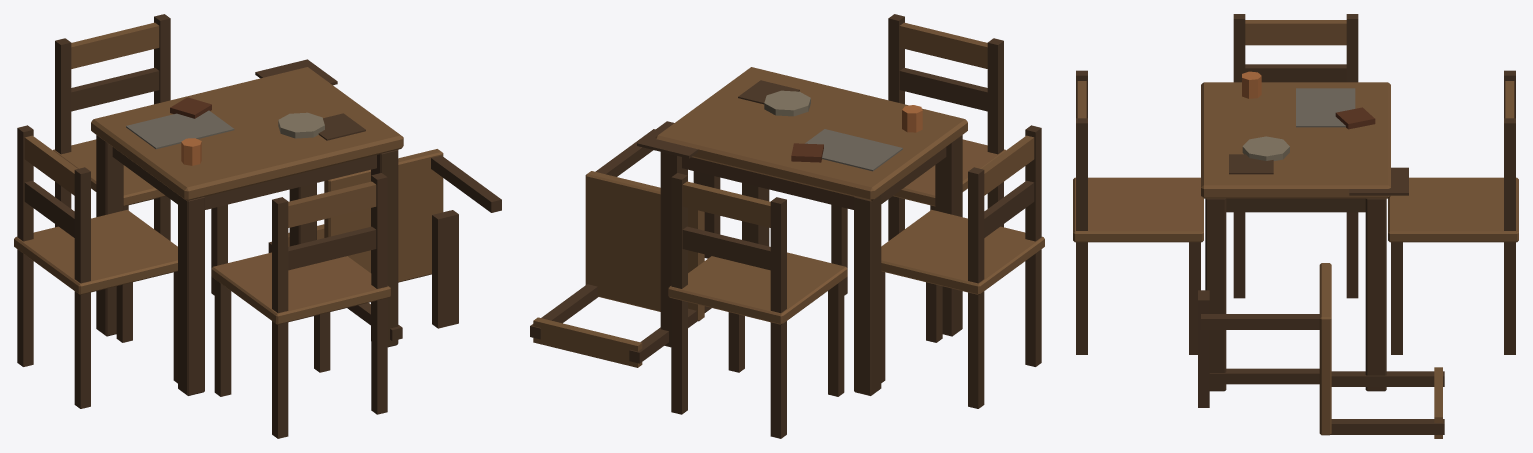
The model's file is furn_dining_set.fbx.
3 renders of one model, left to right at view 1: azimuth 30°, elevation 25°; view 2: azimuth 150°, elevation 25°; view 3: azimuth 270°, elevation 25°, orthographic.
Visible parts, largest first — view 1: furn_dining_set; view 2: furn_dining_set; view 3: furn_dining_set.
Part boxes in pixels (x1,y1,x2,y2): furn_dining_set: (14,14,501,438); furn_dining_set: (530,14,1044,438); furn_dining_set: (1073,14,1518,438).
Size of the model in its own units: 1.57 by 0.86 by 1.5.
